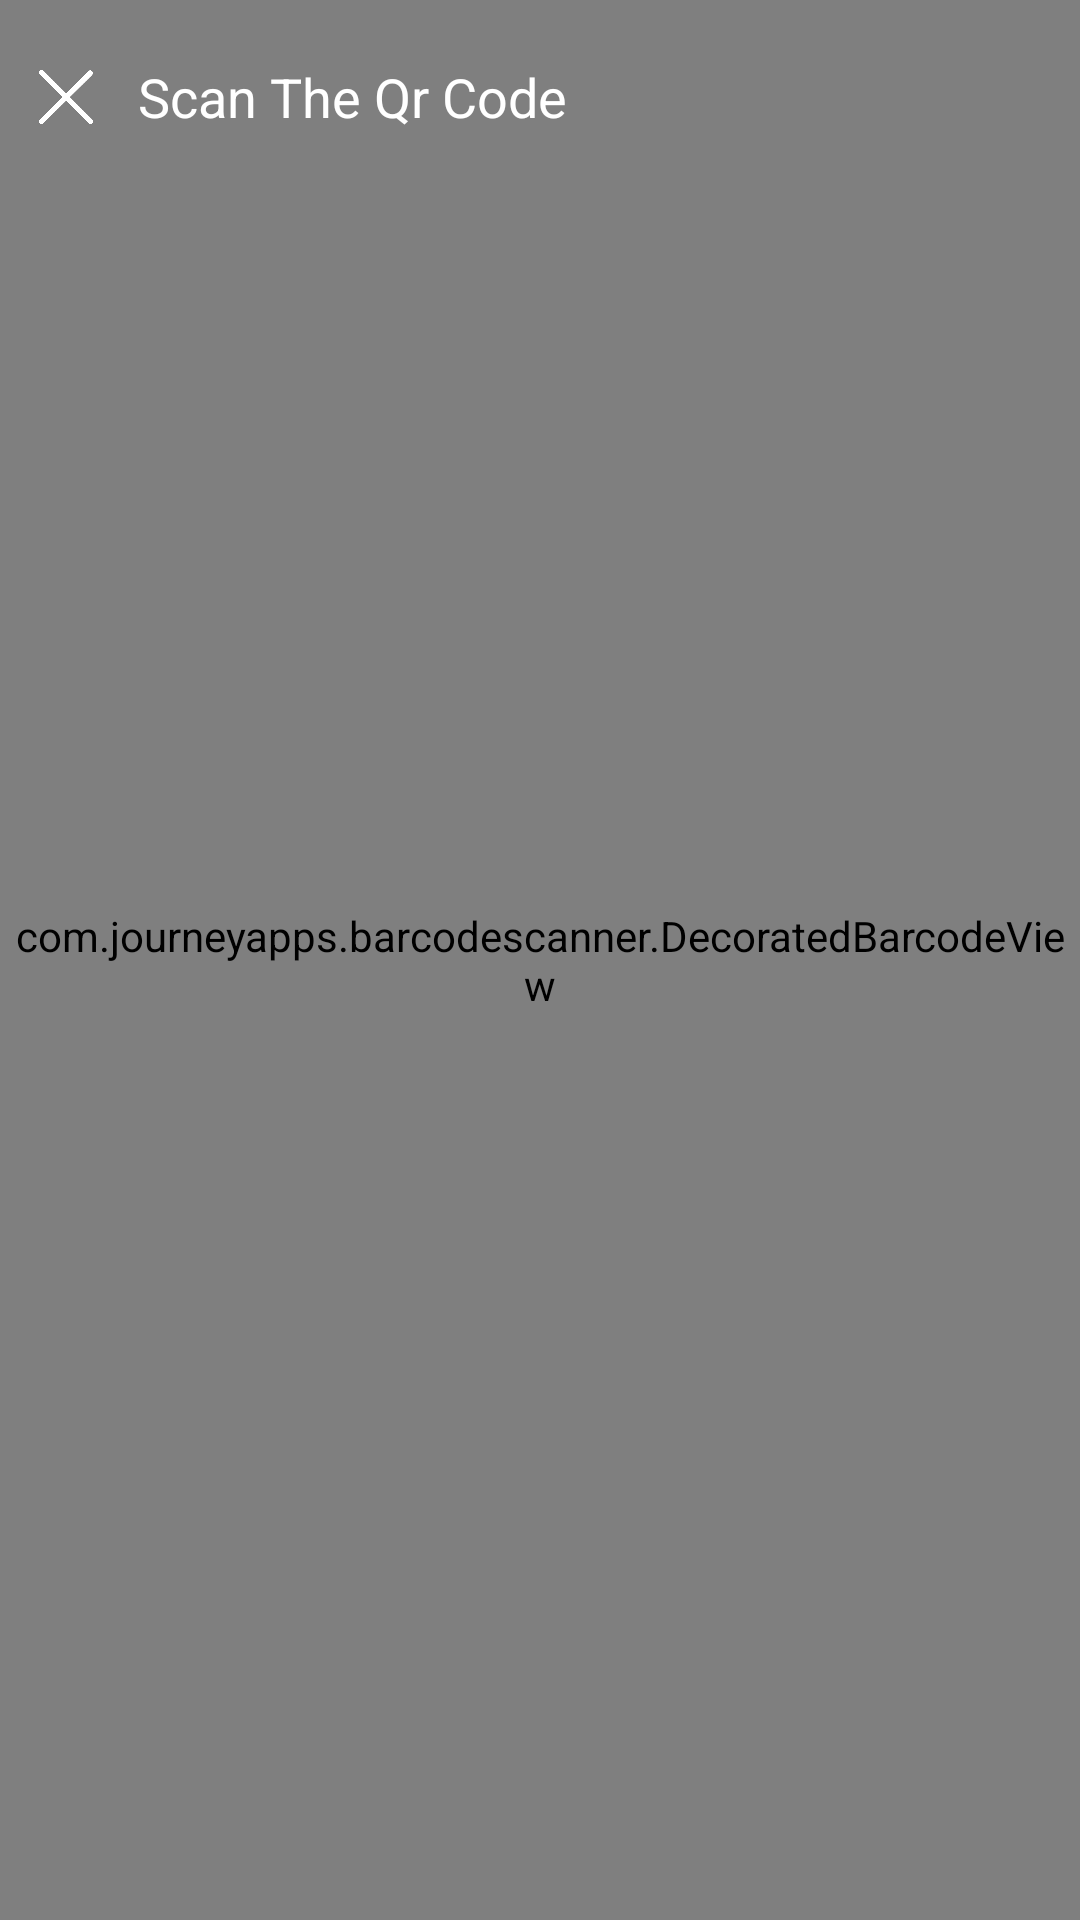

Icons on this 1080px x 1920px Android screen, each with the point to tap as (x,y):
cancel: (66,97)
